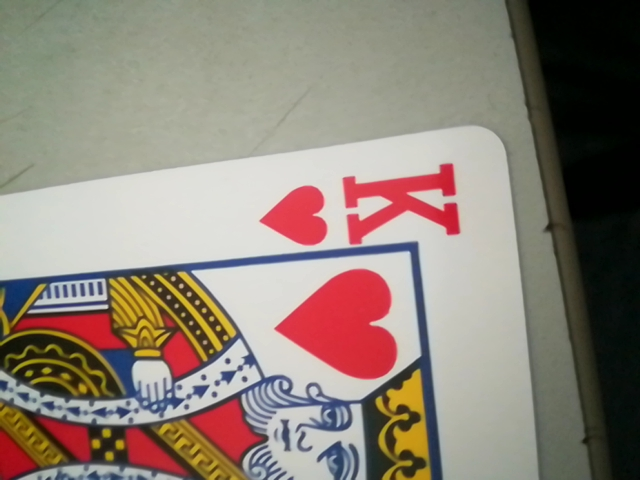hx k: (264, 162, 465, 252)
